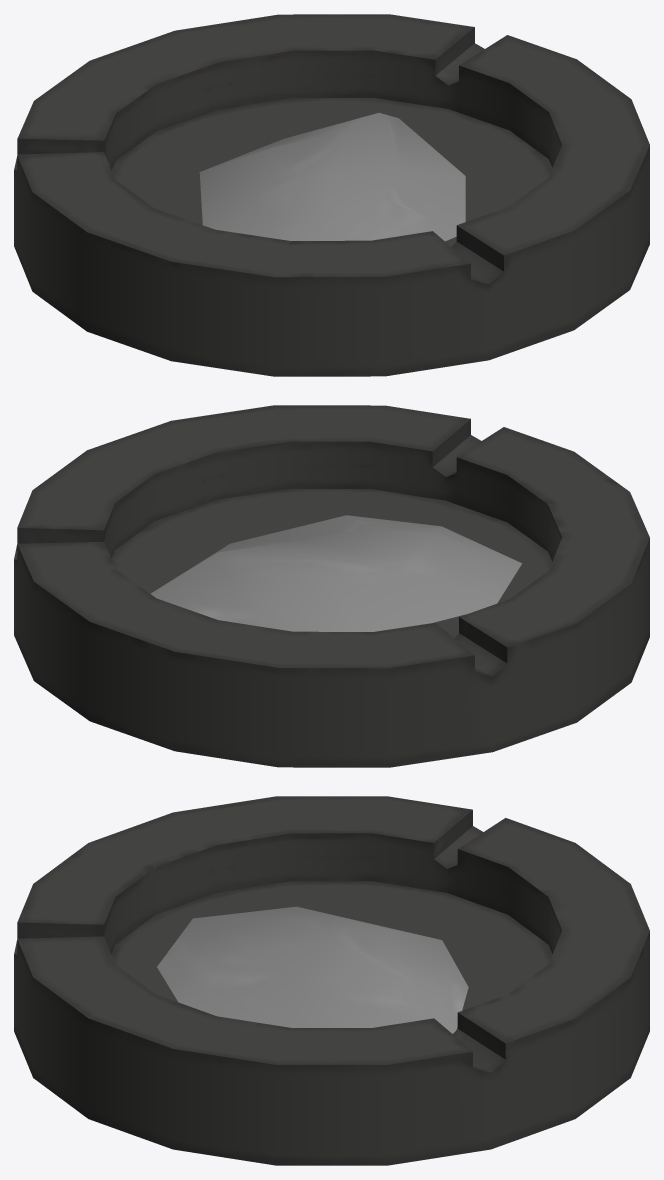
File: Ashtray_2.fbx
3 renders of one model, top to bottom at view 1: azimuth 30°, elevation 25°; view 2: azimuth 150°, elevation 25°; view 3: azimuth 270°, elevation 25°, orthographic.
Parts seen in each view (by area): view 1: Ashtray_2; view 2: Ashtray_2; view 3: Ashtray_2.
Boxes of the visible parts, bbox=[...] form: Ashtray_2: bbox=[14, 14, 649, 376]; Ashtray_2: bbox=[14, 405, 649, 767]; Ashtray_2: bbox=[14, 796, 649, 1165].
Size of the model in its own units: 0.1143 by 0.02 by 0.1143.
